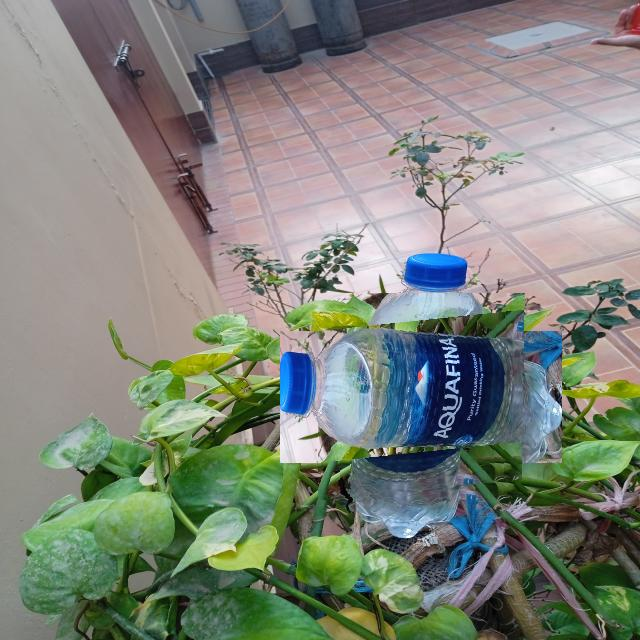Plastic: (318, 293, 525, 501)
